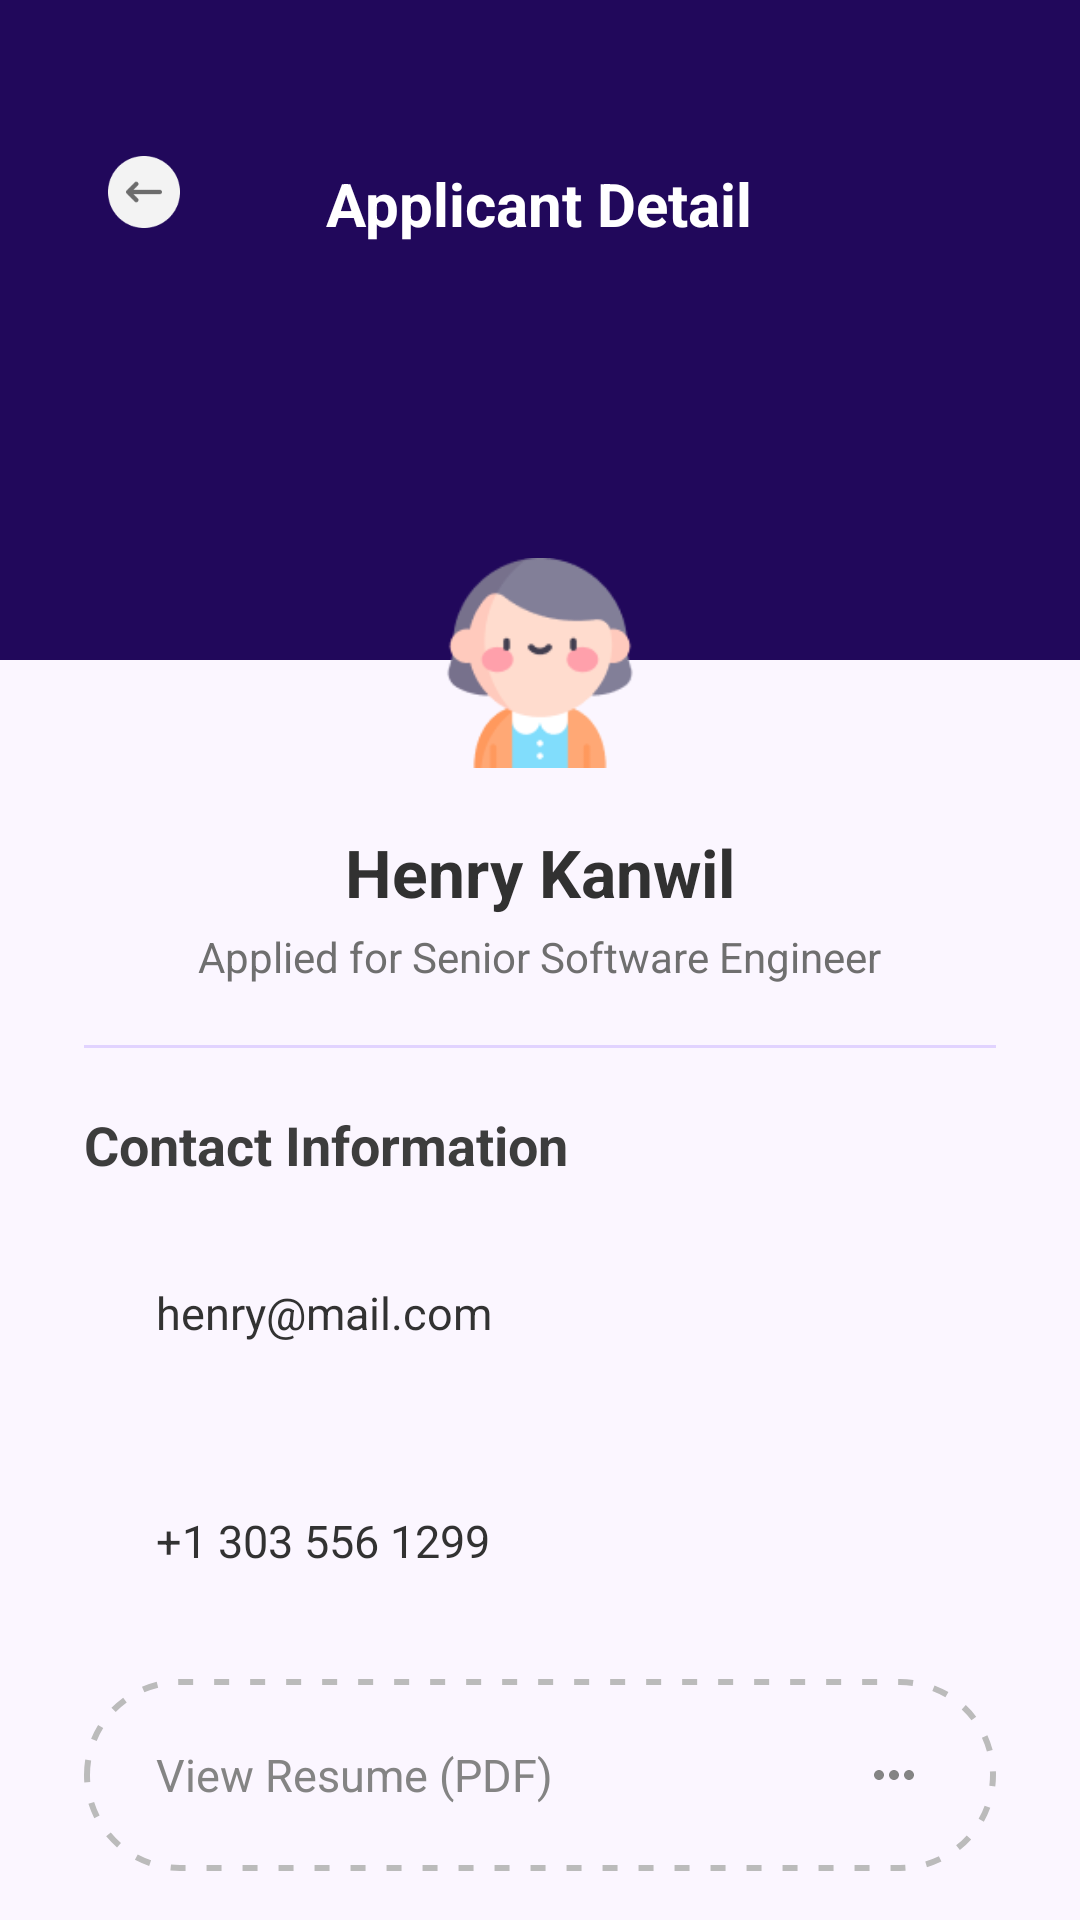

Named icons in this screenshot (1080w x 1920h) and their centers, (x=x, y=y):
Applicant: (x=540, y=663)
Back: (x=144, y=192)
